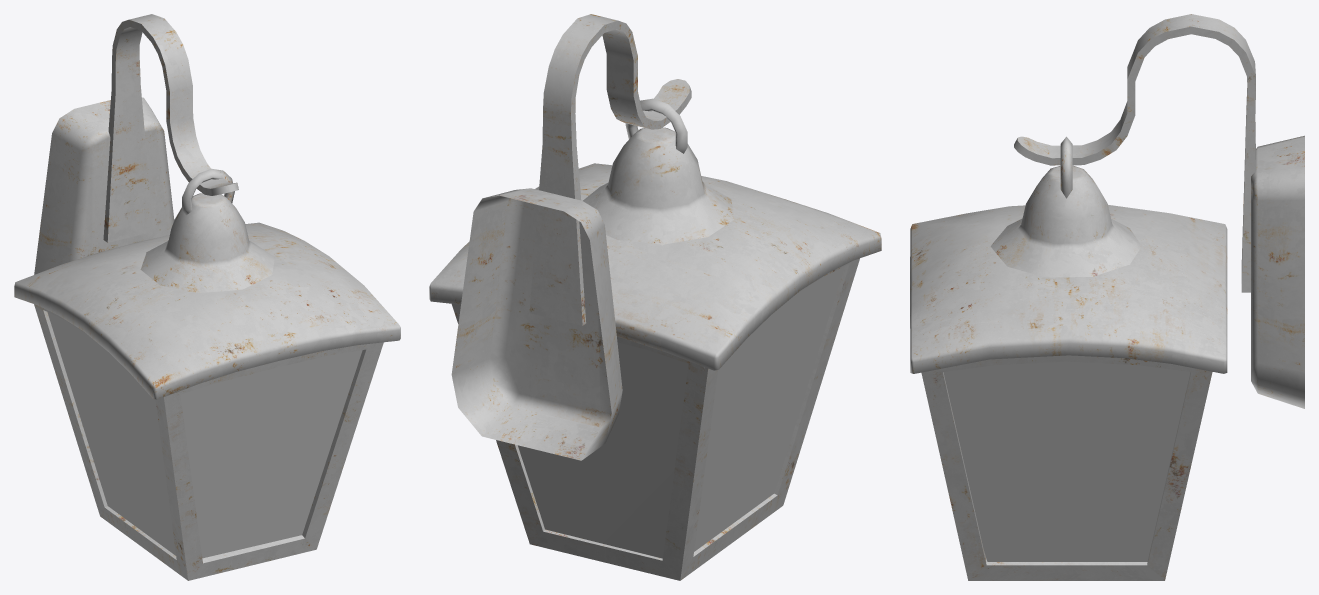
File: SM_Lamp_B.fbx
3 views of the same model, side by side, from view 1: azimuth 30°, elevation 25°; view 2: azimuth 150°, elevation 25°; view 3: azimuth 270°, elevation 25° (orthographic). The views are drawn at different scales.
Visible parts, largest first — view 1: SM_Lamp_B; view 2: SM_Lamp_B; view 3: SM_Lamp_B.
Boxes of the visible parts, bbox=[...] form: SM_Lamp_B: bbox=[14, 14, 400, 580]; SM_Lamp_B: bbox=[429, 14, 881, 580]; SM_Lamp_B: bbox=[910, 14, 1304, 580].
Size of the model in its own units: 20.59 by 25.47 by 37.44.
3 materials, 1 textured.
